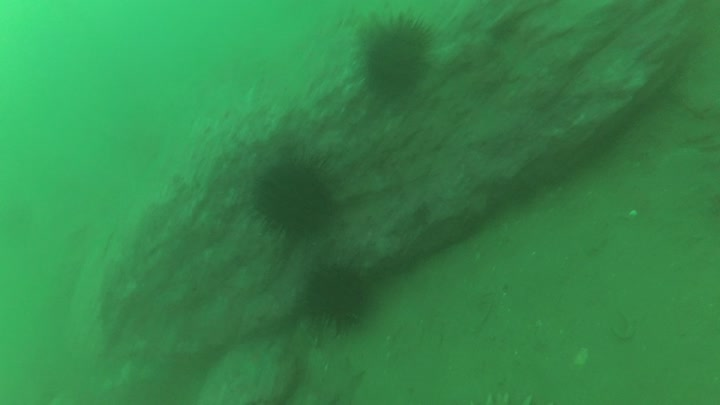echinus: (241, 147, 352, 251), (352, 16, 444, 104), (293, 258, 379, 341)
